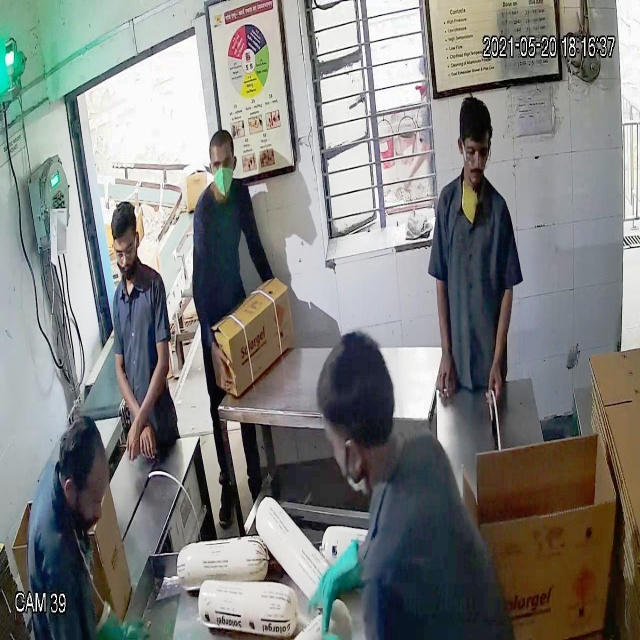Gafas: (456, 132, 496, 169), (107, 231, 144, 265)
